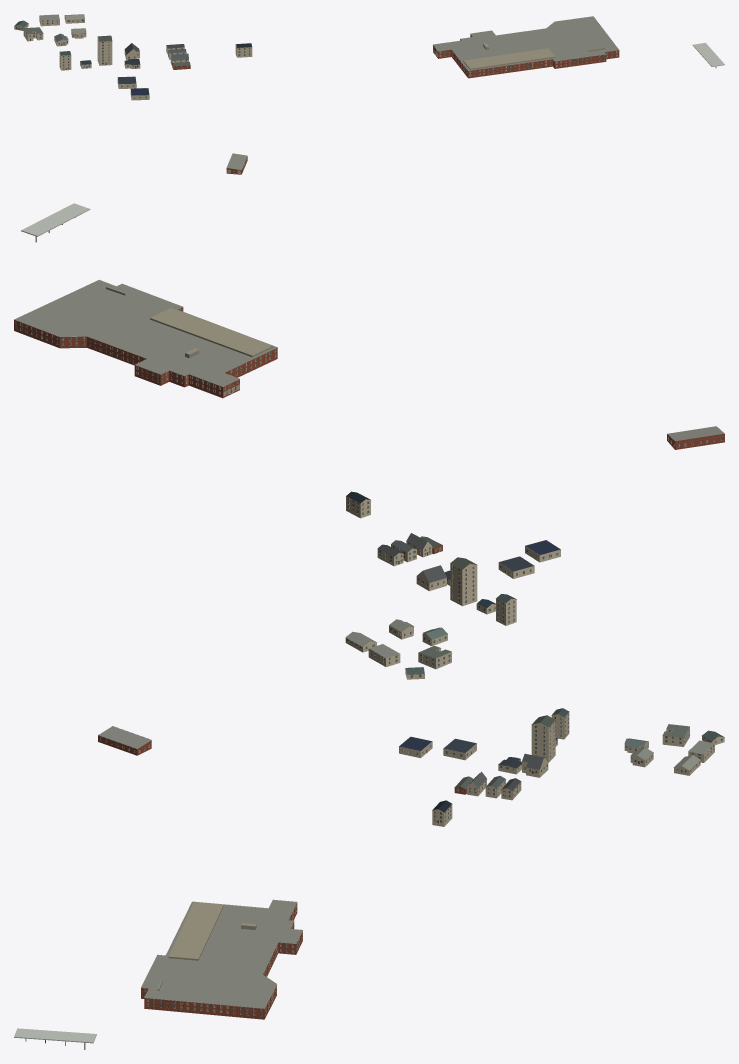
3 views of the same model, one above another, from view 1: azimuth 30°, elevation 25°; view 2: azimuth 150°, elevation 25°; view 3: azimuth 270°, elevation 25° (orthographic). The views are drawn at different scales.
Parts seen in each view (by area): view 1: 2_0_322993949_0, 2_0_629313316_16, 2_0_-10075217784_45; view 2: 2_0_322993949_0, 2_0_629313316_16, 2_0_-10075217784_45; view 3: 2_0_322993949_0, 2_0_629313316_16, 2_0_-10075217784_45.
Part boxes in pixels (box(x1,y1,x2,y2)): 2_0_322993949_0: box(14, 14, 619, 174); 2_0_629313316_16: box(14, 15, 252, 100); 2_0_-10075217784_45: box(692, 42, 724, 67); 2_0_322993949_0: box(14, 280, 724, 677); 2_0_629313316_16: box(345, 496, 560, 679); 2_0_-10075217784_45: box(21, 203, 90, 242); 2_0_322993949_0: box(98, 708, 724, 1019); 2_0_629313316_16: box(399, 712, 724, 826); 2_0_-10075217784_45: box(14, 1028, 96, 1049).
Bounding box in the file's own units: 513 × 28.23 × 443.
